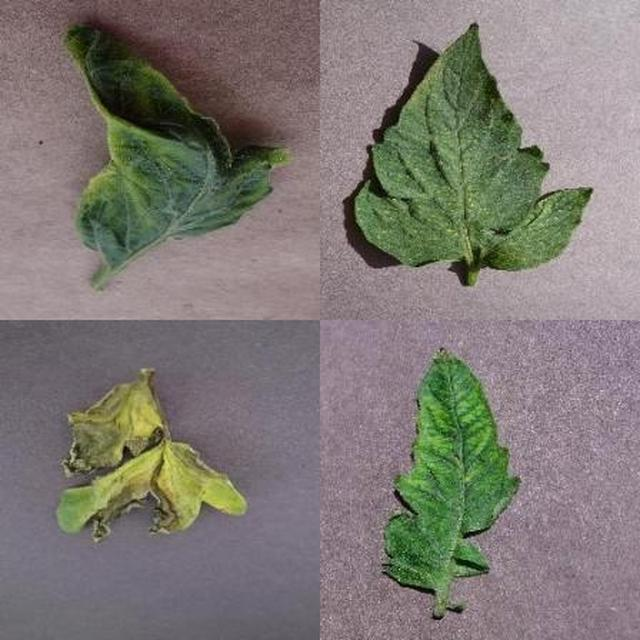Yellow Leaf Curl Virus: (200, 204, 640, 640)
